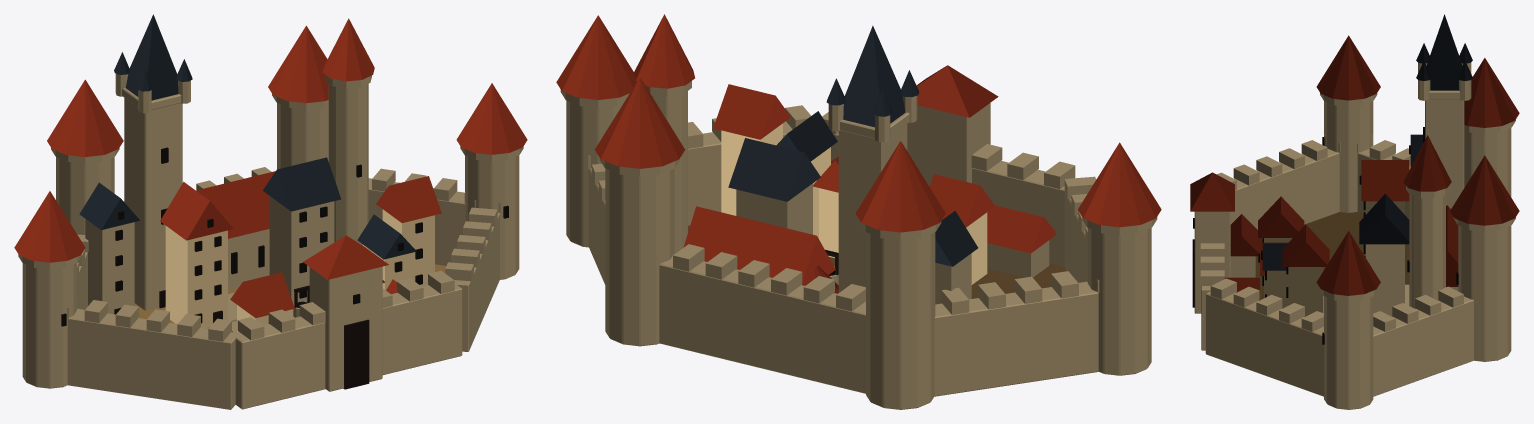
Rendered from settle_3_5.obj.
The picture shows the model from 3 angles, left to right: view 1: azimuth 30°, elevation 25°; view 2: azimuth 150°, elevation 25°; view 3: azimuth 270°, elevation 25°; orthographic projection. The views are drawn at different scales.
Visible parts, largest first — view 1: core_stone, core_roof_civic, core_plaster, core_roof_tile, core_roof_slate, core_slate, core_window, core_wood_dark; view 2: core_stone, core_roof_civic, core_roof_tile, core_roof_slate, core_plaster, core_slate, core_cloth; view 3: core_stone, core_roof_civic, core_roof_tile, core_roof_slate, core_plaster, core_slate, core_cloth, core_window.
Part boxes in pixels (bbox=[...]): core_stone: bbox=[18, 73, 523, 409]; core_roof_civic: bbox=[14, 18, 527, 279]; core_plaster: bbox=[165, 209, 434, 331]; core_roof_tile: bbox=[160, 176, 441, 318]; core_roof_slate: bbox=[79, 157, 416, 259]; core_slate: bbox=[114, 14, 192, 100]; core_window: bbox=[61, 147, 508, 326]; core_wood_dark: bbox=[114, 285, 369, 389]; core_stone: bbox=[560, 81, 1157, 409]; core_roof_civic: bbox=[556, 14, 1161, 293]; core_roof_tile: bbox=[713, 84, 1055, 253]; core_roof_slate: bbox=[728, 111, 978, 266]; core_plaster: bbox=[721, 123, 987, 284]; core_slate: bbox=[826, 25, 918, 127]; core_cloth: bbox=[688, 225, 1066, 298]; core_stone: bbox=[1194, 62, 1515, 409]; core_roof_civic: bbox=[1190, 35, 1519, 295]; core_roof_tile: bbox=[1224, 160, 1409, 300]; core_roof_slate: bbox=[1262, 134, 1423, 270]; core_plaster: bbox=[1264, 201, 1404, 316]; core_slate: bbox=[1416, 14, 1472, 90]; core_cloth: bbox=[1255, 212, 1409, 300]; core_window: bbox=[1193, 127, 1458, 344].
Size of the model in its own units: 1.87 by 1.02 by 1.17.
